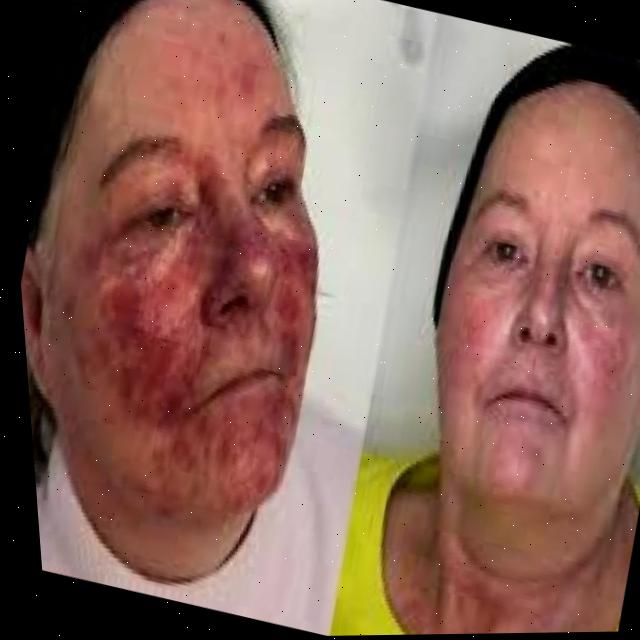Rosacea: (15, 196, 255, 511), (218, 218, 351, 481), (153, 364, 309, 517), (426, 267, 515, 384), (557, 289, 640, 406), (205, 205, 284, 282)
